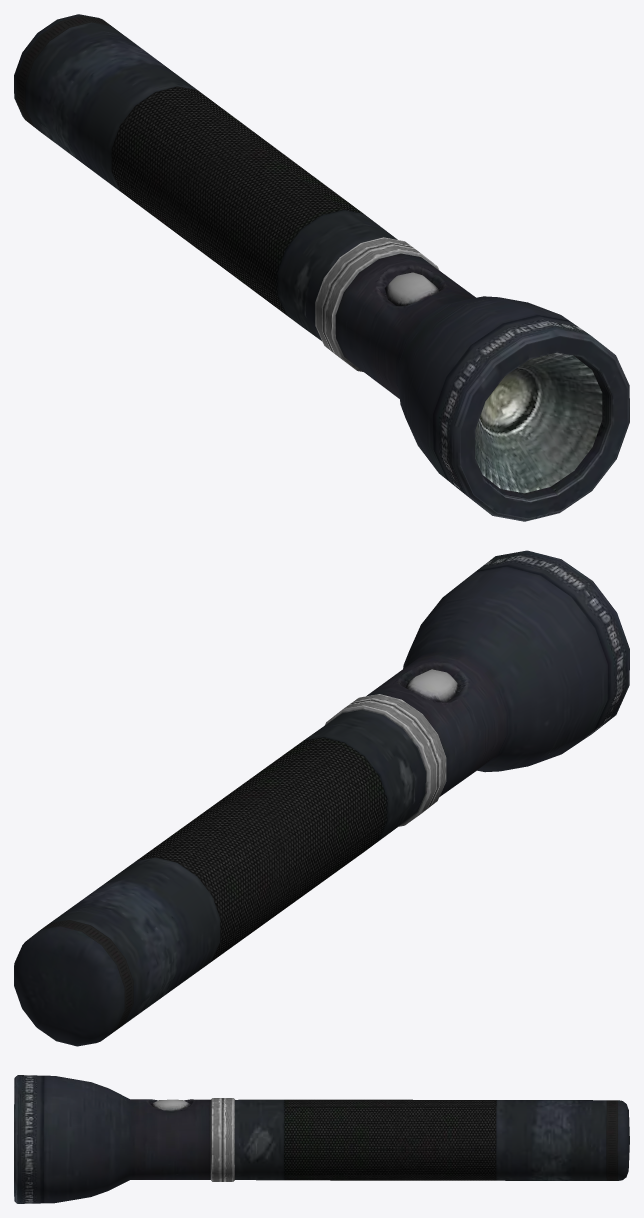
File: flashlight.worldmodel.glb
The picture shows the model from 3 angles, top to bottom: view 1: azimuth 30°, elevation 25°; view 2: azimuth 150°, elevation 25°; view 3: azimuth 270°, elevation 25°; orthographic projection. The views are drawn at different scales.
Parts seen in each view (by area): view 1: w_flashlight_LOD0; view 2: w_flashlight_LOD0; view 3: w_flashlight_LOD0.
Part boxes in pixels (x1=…): w_flashlight_LOD0: x1=14, y1=14, x2=629, y2=521; w_flashlight_LOD0: x1=14, y1=550, x2=629, y2=1046; w_flashlight_LOD0: x1=14, y1=1075, x2=629, y2=1203.
Size of the model in its own units: 0.057 by 0.057 by 0.2737.
Materials: 1 (1 with a texture image).
